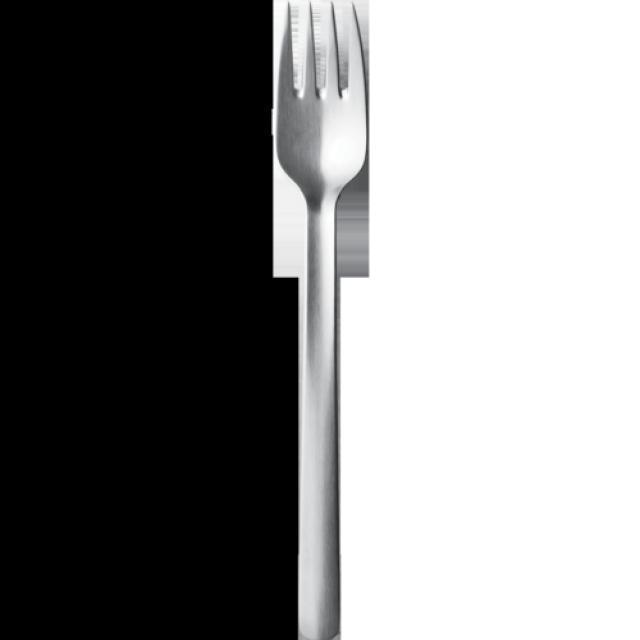spoon: (271, 0, 370, 640)
